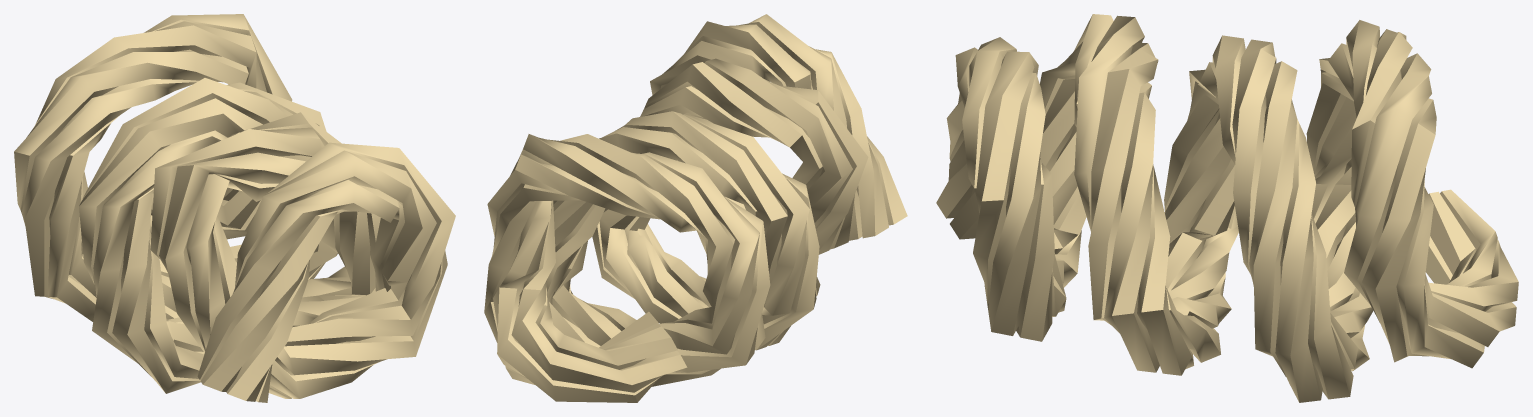
Rendered from Four_Side_Rope_Knot.fbx.
3 renders of one model, left to right at view 1: azimuth 30°, elevation 25°; view 2: azimuth 150°, elevation 25°; view 3: azimuth 270°, elevation 25°, orthographic. The views are drawn at different scales.
Visible parts, largest first — view 1: sweep12; view 2: sweep12; view 3: sweep12.
Boxes of the visible parts, x1=… form: sweep12: x1=14, y1=14, x2=455, y2=402; sweep12: x1=484, y1=14, x2=907, y2=402; sweep12: x1=936, y1=14, x2=1518, y2=402.
Size of the model in its own units: 3.35 by 3.07 by 5.05.
1 material, 1 textured.
